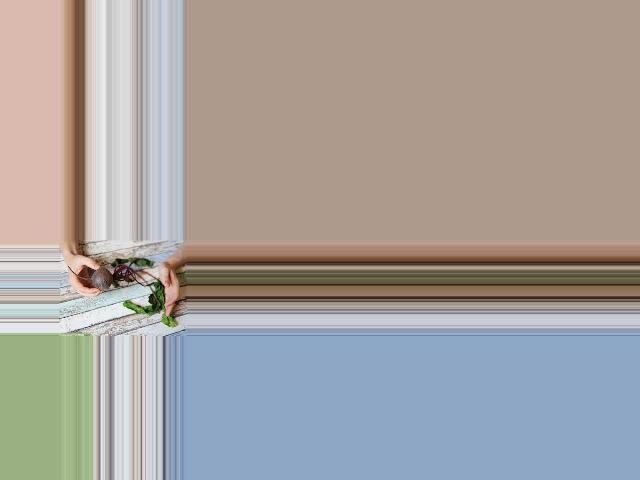beet: (67, 258, 176, 327)
